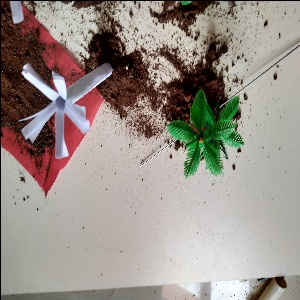plant: (161, 80, 252, 180)
weed: (12, 58, 106, 151)
